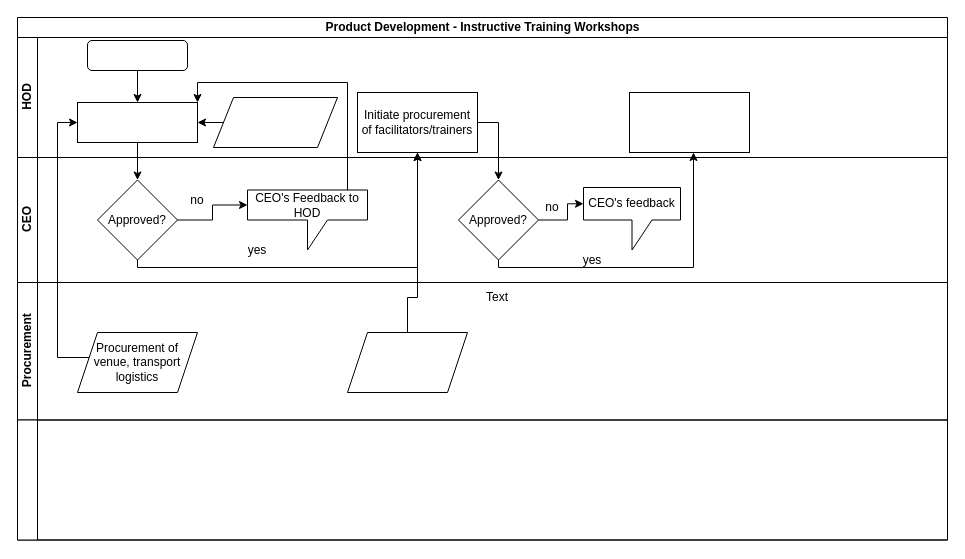
The diagram is 965 pixels wide and 559 high, and some of its shapes have lost their labels. The centre of each missing label's shape, as x and y in pixels:
"HOD initiates" goes at [137,122].
"Printing materials, badges, imprest" goes at [275,122].
"Procurement department input" goes at [407,362].
"Product Development" goes at [482,479].
"Start" goes at [137,55].
